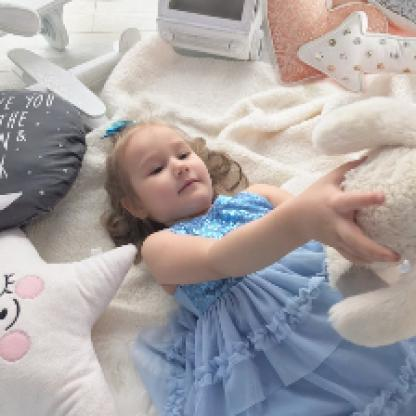child: (103, 118, 415, 415)
